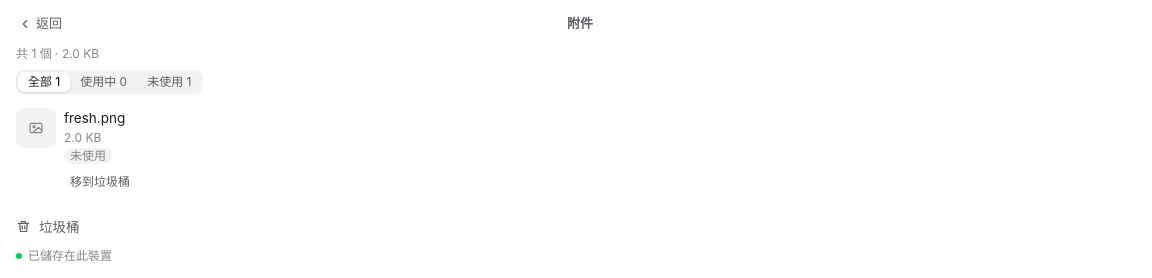
Test case: Attachments view › moves an unused attachment to the trash at once (no age requirement)
Expected: the text "未使用" is shown, 64,148 -> 112,164
Click the button with aria-label "把 fresh.png 移到垃圾桶" at (100, 182), box 64,170 -> 136,194
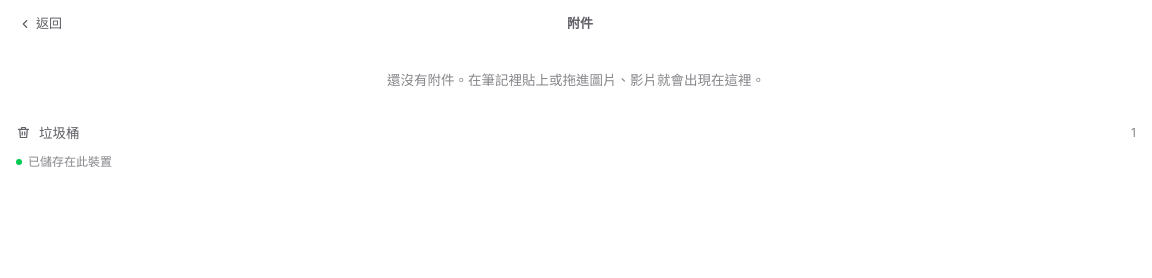
Expected: the text "fresh.png" is gone
